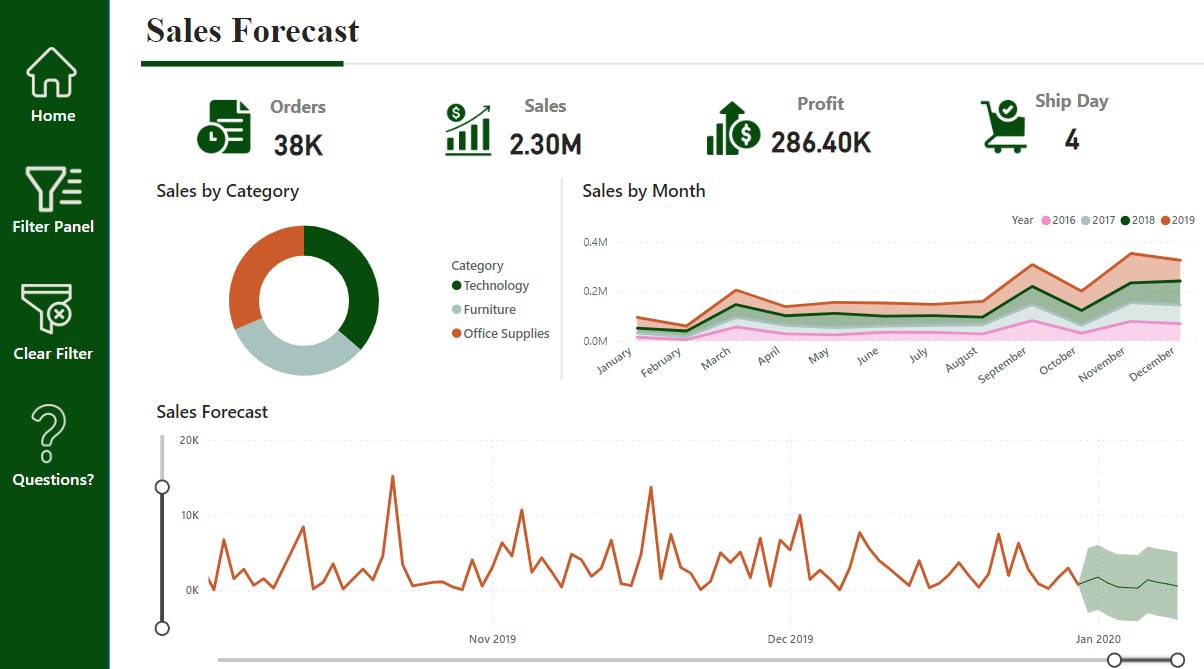

Layout of this report page (visuals, bound fields, positions):
{"tool":"powerbi","page":{"name":"Page 1","canvas":[1280,720],"ordinal":0},"visuals":[{"type":"stackedAreaChart","title":"Sales by Month","fields":{"Y":["Sum(Orders.Sales)"],"Category":["Orders.Order Date.Variation.Date Hierarchy.Month"],"Series":["Orders.Order Date.Variation.Date Hierarchy.Year"]},"box":[615.1,198.7,664.4,233.6],"z":0},{"type":"donutChart","title":"Sales by Category","fields":{"Category":["Orders.Category"],"Y":["Sum(Orders.Sales)"]},"box":[163.7,198.7,435.5,233.6],"z":1000},{"type":"card","title":"Sales","fields":{"Values":["Sum(Orders.Sales)"]},"box":[454.6,108.1,252.7,77.9],"z":2000},{"type":"card","title":"Orders","fields":{"Values":["Sum(Orders.Quantity)"]},"box":[206.6,109.7,224.1,77.9],"z":3000},{"type":"card","title":"Ship Day","fields":{"Values":["Avg(Orders.AvgDelivery)"]},"box":[1033.1,103.3,211.4,77.9],"z":4000},{"type":"card","title":"Profit","fields":{"Values":["Sum(Orders.Profit)"]},"box":[758.1,106.5,228.9,77.9],"z":5000},{"type":"textbox","box":[152.6,14.3,270.2,71.5],"z":6000},{"type":"lineChart","title":"Sales Forecast","fields":{"Y":["Sum(Orders.Sales)"],"Category":["Orders.Order Date"]},"box":[163.7,432.3,1115.8,287.7],"z":7000},{"type":"shape","box":[0,0,119.2,720],"z":8000},{"type":"shape","box":[346.5,68.3,933,17.5],"z":9000},{"type":"shape","box":[152.6,57.2,214.6,39.7],"z":10000},{"type":"shape","box":[581.7,198.7,33.4,213],"z":11000},{"type":"image","box":[747,109.7,66.8,71.5],"z":12000},{"type":"image","box":[1033.1,108.1,66.8,71.5],"z":13000},{"type":"image","box":[206.6,108.1,66.8,71.5],"z":14000},{"type":"image","box":[465.7,111.3,66.8,71.5],"z":15000},{"type":"image","box":[19.1,54,77.9,63.6],"z":16000},{"type":"image","box":[19.1,305.2,66.8,63.6],"z":17000},{"type":"image","box":[11.1,171.7,98.5,76.3],"z":18000},{"type":"image","box":[12.7,432.3,84.2,73.1],"z":19000},{"type":"shape","box":[0,108.1,119.2,44.5],"z":20000},{"type":"shape","box":[0,225.7,119.2,44.5],"z":21000},{"type":"shape","box":[0,360.8,119.2,44.5],"z":22000},{"type":"shape","box":[0,494.3,119.2,44.5],"z":23000}]}

Visuals, with their boxes on the page's 1280x720 design canvas (x1, y1, x2, y2). These are canvas units, not pixel positions in the 1204x669 screenshot, which may show the page scaled, cropped or inside an application window:
"Sales by Month" stackedAreaChart: {"left": 615, "top": 199, "right": 1280, "bottom": 432}
"Sales by Category" donutChart: {"left": 164, "top": 199, "right": 599, "bottom": 432}
"Sales" card: {"left": 455, "top": 108, "right": 707, "bottom": 186}
"Orders" card: {"left": 207, "top": 110, "right": 431, "bottom": 188}
"Ship Day" card: {"left": 1033, "top": 103, "right": 1244, "bottom": 181}
"Profit" card: {"left": 758, "top": 106, "right": 987, "bottom": 184}
textbox: {"left": 153, "top": 14, "right": 423, "bottom": 86}
"Sales Forecast" lineChart: {"left": 164, "top": 432, "right": 1280, "bottom": 720}
shape: {"left": 0, "top": 0, "right": 119, "bottom": 720}
shape: {"left": 346, "top": 68, "right": 1280, "bottom": 86}
shape: {"left": 153, "top": 57, "right": 367, "bottom": 97}
shape: {"left": 582, "top": 199, "right": 615, "bottom": 412}
image: {"left": 747, "top": 110, "right": 814, "bottom": 181}
image: {"left": 1033, "top": 108, "right": 1100, "bottom": 180}
image: {"left": 207, "top": 108, "right": 273, "bottom": 180}
image: {"left": 466, "top": 111, "right": 532, "bottom": 183}
image: {"left": 19, "top": 54, "right": 97, "bottom": 118}
image: {"left": 19, "top": 305, "right": 86, "bottom": 369}
image: {"left": 11, "top": 172, "right": 110, "bottom": 248}
image: {"left": 13, "top": 432, "right": 97, "bottom": 505}
shape: {"left": 0, "top": 108, "right": 119, "bottom": 153}
shape: {"left": 0, "top": 226, "right": 119, "bottom": 270}
shape: {"left": 0, "top": 361, "right": 119, "bottom": 405}
shape: {"left": 0, "top": 494, "right": 119, "bottom": 539}
